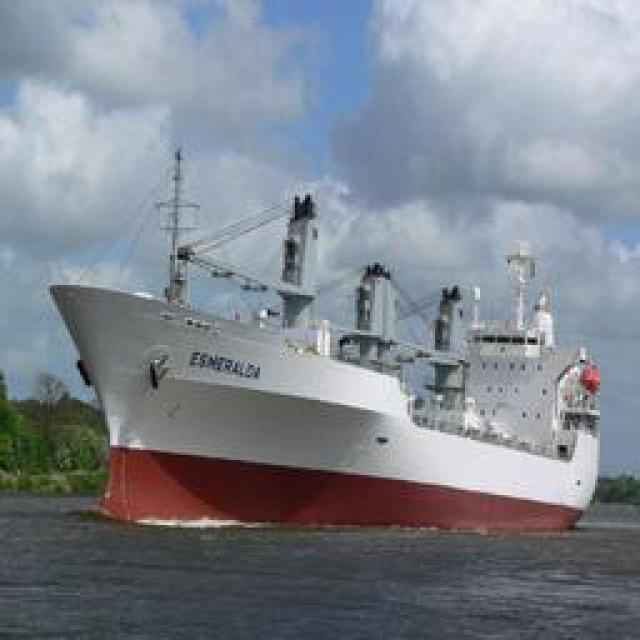Ship: (56, 180, 606, 528)
